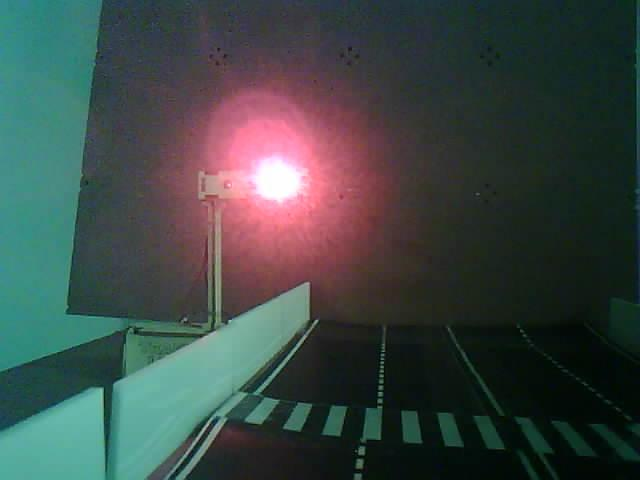crosswalk: (162, 368, 640, 478)
red: (132, 99, 354, 349)
